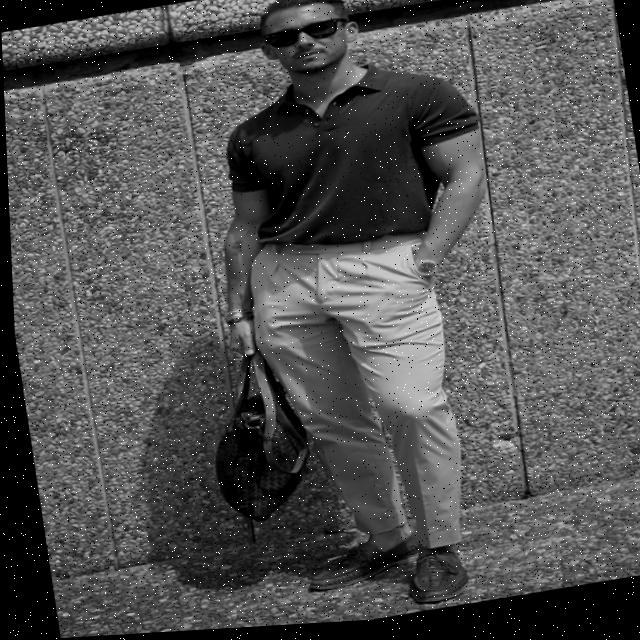Upper-Body: (225, 68, 477, 249)
